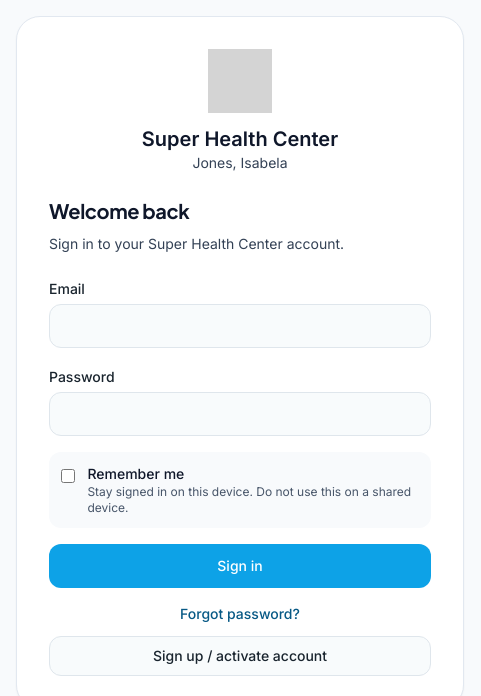
unified account access › clears the token if loading the signed-in account fails
Type "doctor_test" into the field labelled "Email" at (240, 326), box [49,304,431,348]
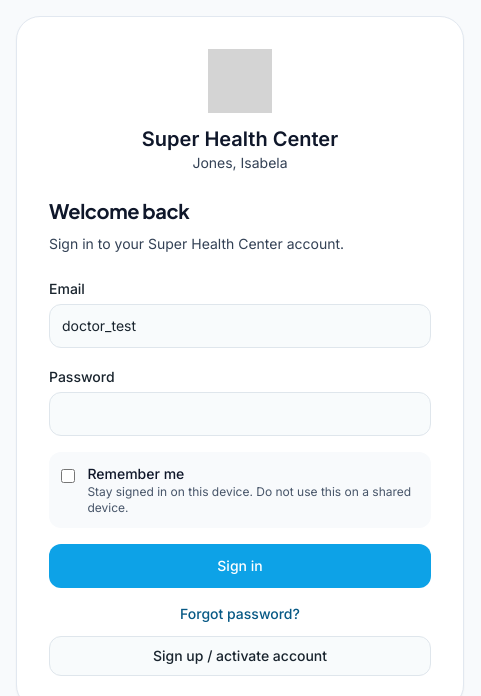
Type "PersonalPassword123!" into the password field labelled "Password" at (240, 414), box [49,392,431,436]
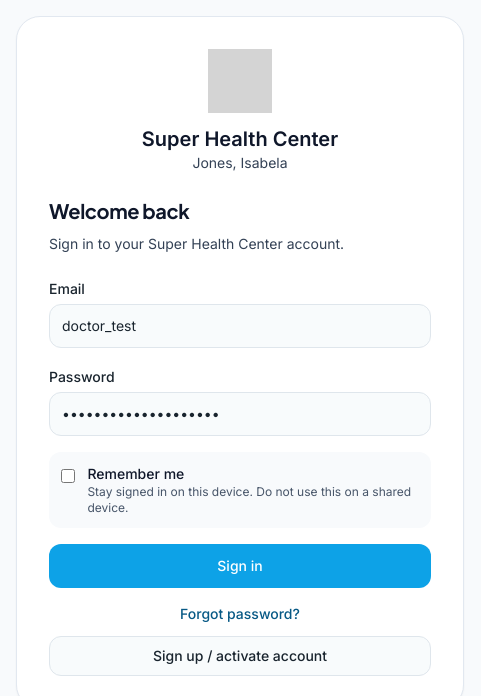
Click the button "Sign in" at (240, 566), box [49,544,431,588]
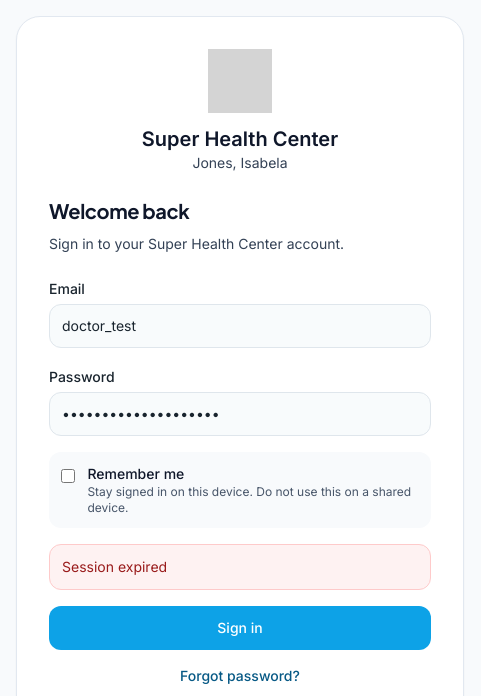
Now the message "Session expired" is shown, box [49,544,431,590]
